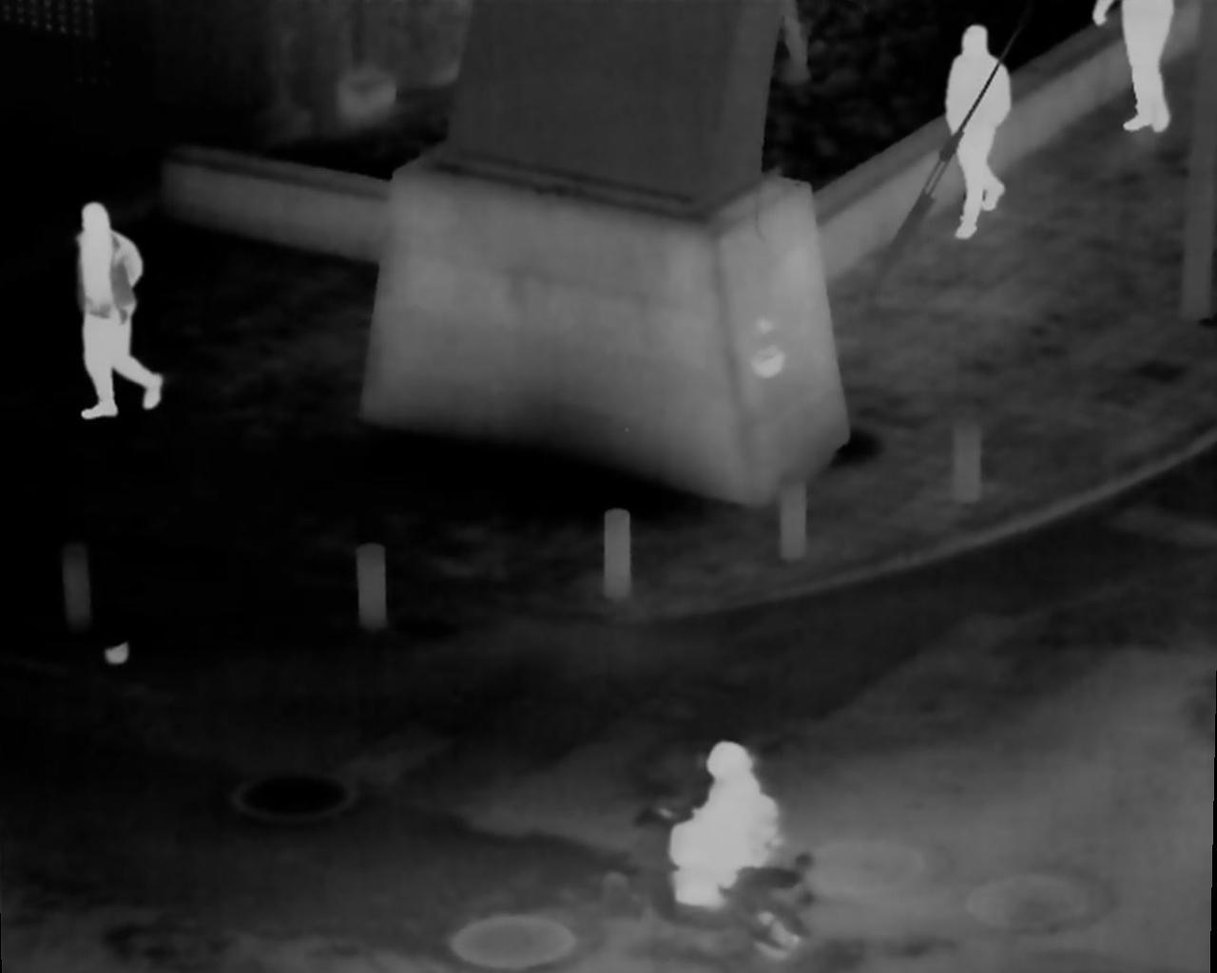person: (666, 741, 782, 918), (74, 200, 163, 424), (937, 28, 1010, 243)
